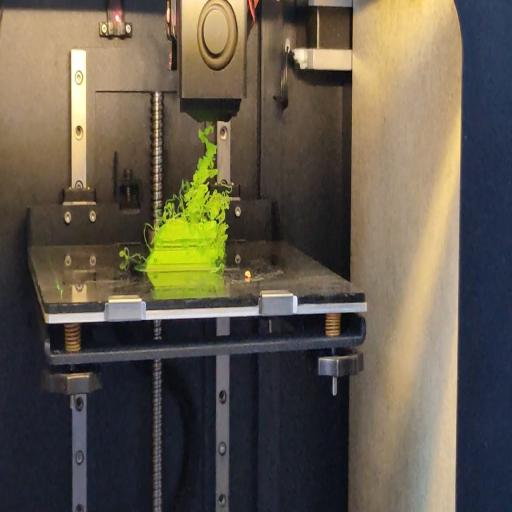spaghetti: (162, 120, 230, 223), (112, 248, 148, 269), (218, 226, 228, 276), (142, 218, 152, 246)
